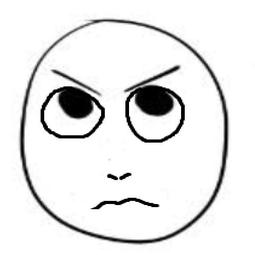eye: (123, 82, 188, 150), (39, 82, 107, 141)
frowning_eyebrow: (121, 61, 186, 94), (47, 63, 105, 97)
line_unsmiling_mouth: (84, 192, 161, 216)
nose: (98, 166, 138, 185)
